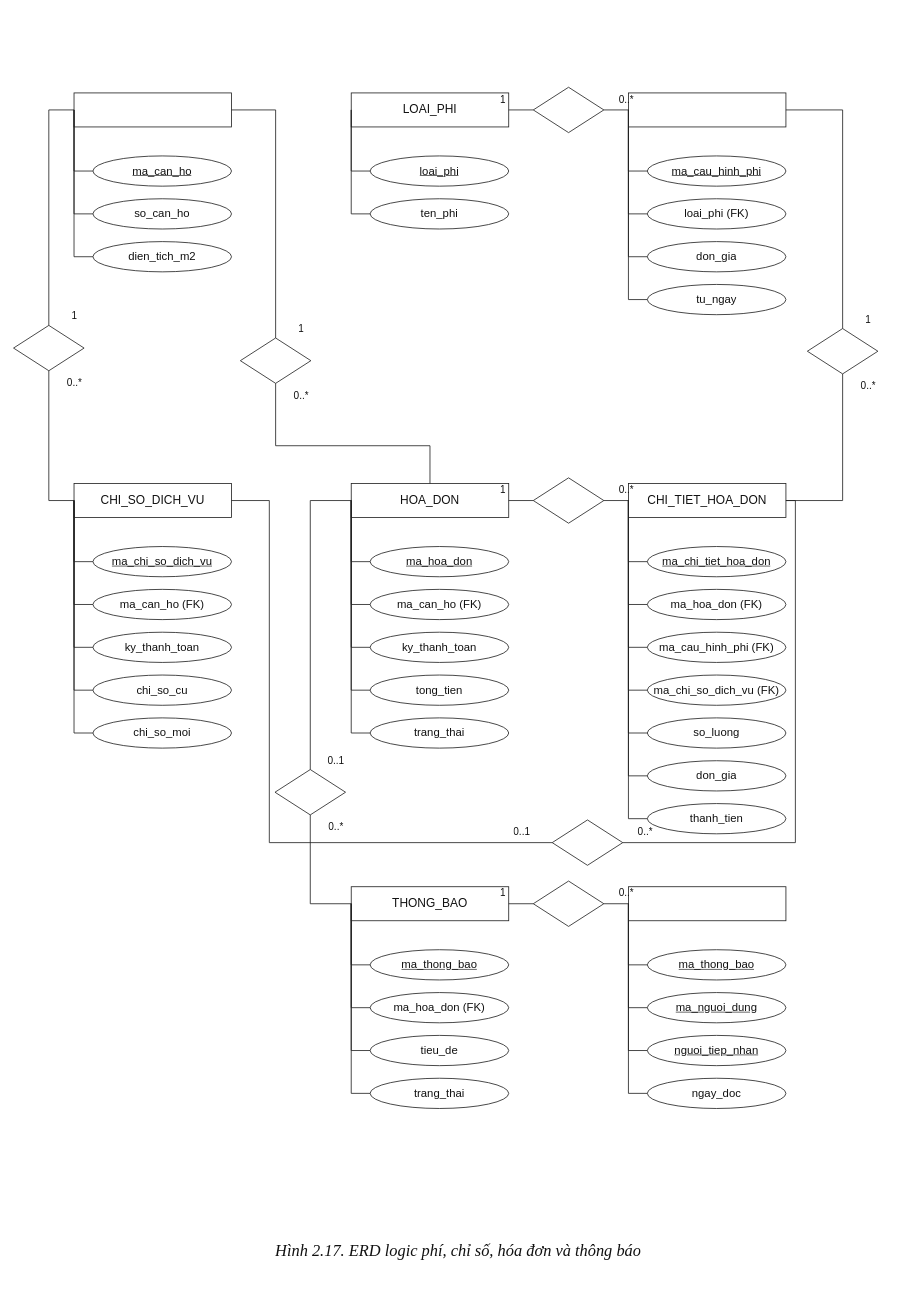
The diagram is 916 pixels wide and 1294 high, and some of its shapes have lost their labels. Here are the shapes that lost their labels. From the top down, the centre of each, then its label:
(152,109): CAN_HO
(568,110): có giá
(707,109): CAU_HINH_PHI
(48,348): ghi chỉ số
(275,360): nhận
(842,351): áp giá
(568,500): gồm
(310,792): nhắc phí
(587,842): nguồn tính
(568,903): đã đọc
(707,903): THONG_BAO_DA_DOC
